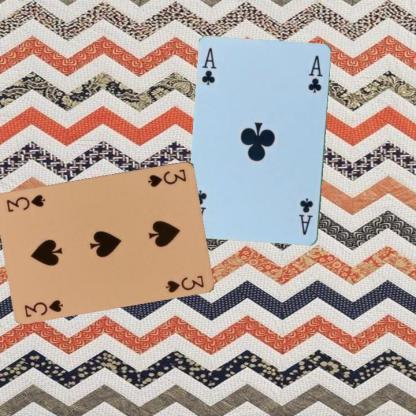3s: (145, 166, 188, 188), (22, 296, 65, 318)
Ac: (296, 196, 315, 236), (200, 45, 218, 87)
